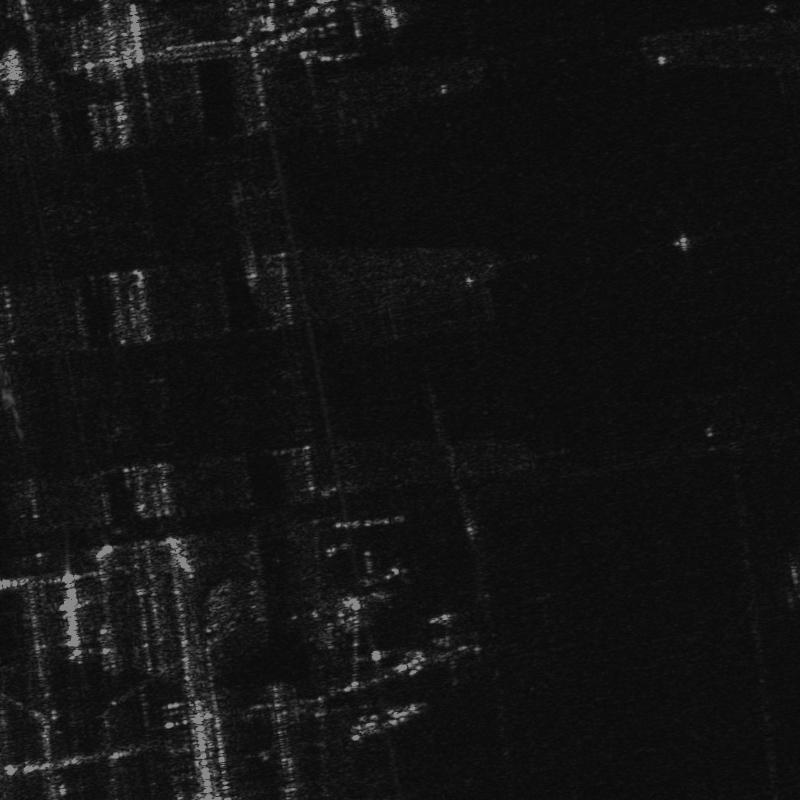Boeing737: (352, 550, 410, 606)
